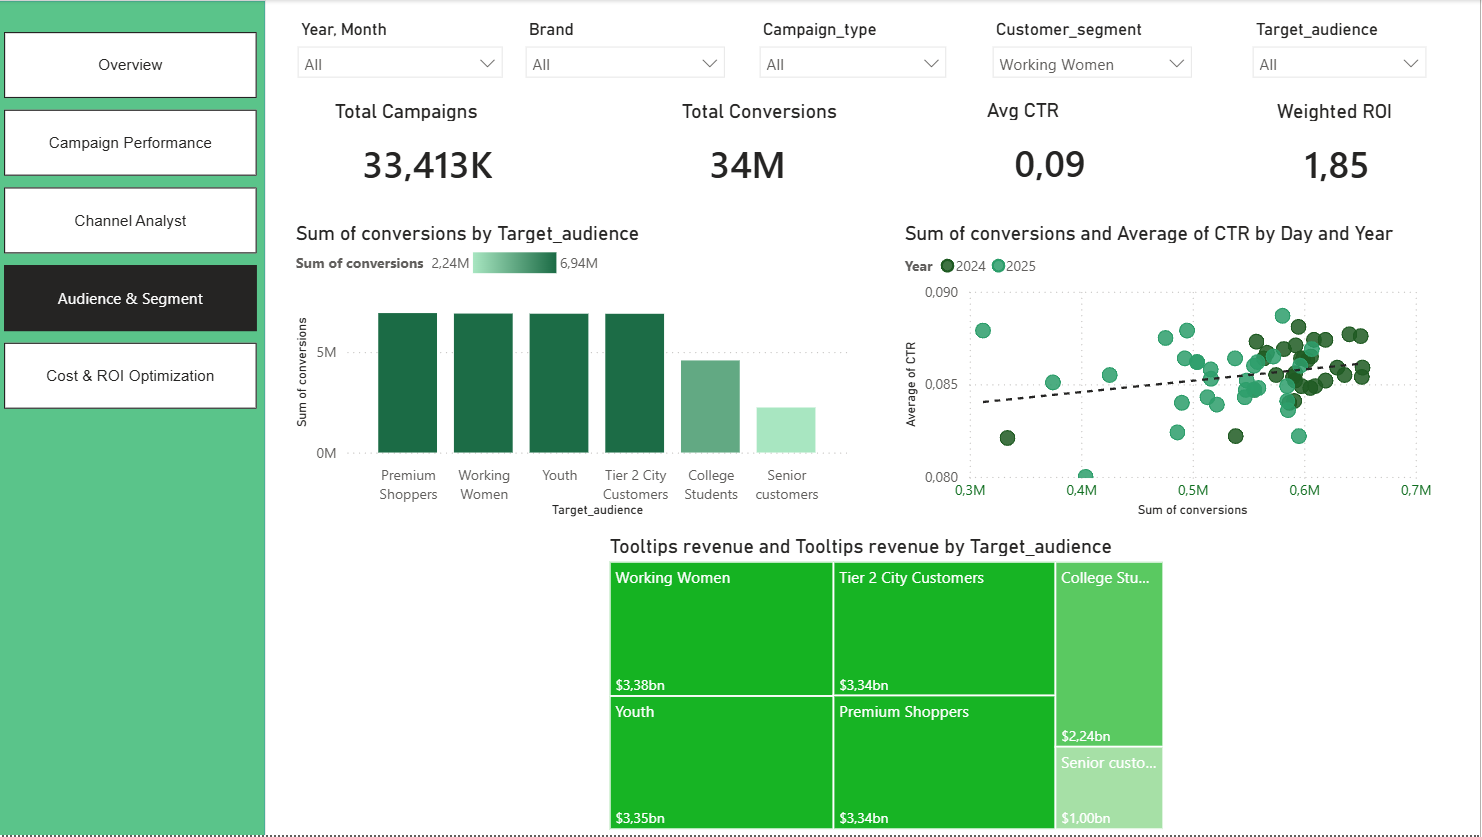

The dashboard page shown, as its layout file describes it:
{"tool":"powerbi","page":{"name":"Audience & Segment","canvas":[1280,720],"ordinal":3},"visuals":[{"type":"cardVisual","title":"Total Conversions","fields":{"Data":["Sum(FactMarketing.conversions)"]},"box":[585.7,85.4,192.3,88.8],"z":0},{"type":"cardVisual","title":"Avg CTR","fields":{"Data":["Avg(FactMarketing.CTR)"]},"box":[848.7,84.5,162.2,88.8],"z":1000},{"type":"cardVisual","title":"Weighted ROI","fields":{"Data":["FactMarketing.Weight_ROI"]},"box":[1098.9,85.4,118.2,88.8],"z":2000},{"type":"cardVisual","title":"Total Campaigns","fields":{"Data":["CountNonNull(FactMarketing.campaign_id)"]},"box":[286.4,85.4,196.7,88.8],"z":3000},{"type":"clusteredColumnChart","fields":{"Category":["DimTargetAudience.target_audience"],"Y":["Sum(FactMarketing.conversions)"]},"box":[252.6,190.8,485.9,259.7],"z":4000},{"type":"scatterChart","fields":{"X":["Sum(FactMarketing.conversions)"],"Y":["Avg(FactMarketing.CTR)"],"Category":["DimDate.campaign_date.Variation.Date Hierarchy.Day"],"Series":["DimDate.campaign_date.Variation.Date Hierarchy.Year"]},"box":[778.2,190.8,464.7,259.7],"z":5000},{"type":"treemap","fields":{"Group":["DimTargetAudience.target_audience"],"Values":["Sum(FactMarketing.revenue)"]},"box":[523.6,460.6,487.3,259.6],"z":6000},{"type":"shape","box":[0,0,232,727.2],"z":7000},{"type":"slicer","fields":{"Values":["DimBrand.brand"]},"box":[446.1,12.4,191.7,72.4],"z":8000},{"type":"slicer","fields":{"Values":["DimCampaignType.campaign_type"]},"box":[647.5,12.4,181.1,72.4],"z":9000},{"type":"slicer","fields":{"Values":["DimCustomerSegment.customer_segment"]},"box":[848.9,12.4,191.7,72.4],"z":10000},{"type":"slicer","fields":{"Values":["DimTargetAudience.target_audience"]},"box":[1073.3,12.4,169.6,72.4],"z":11000},{"type":"slicer","fields":{"Values":["DimDate.campaign_date.Variation.Date Hierarchy.Year","DimDate.campaign_date.Variation.Date Hierarchy.Month"]},"box":[249.3,12.1,196.7,58.7],"z":12000},{"type":"pageNavigator","box":[6,27.6,218.2,325.2],"z":13000}]}

Visuals, with their boxes on the page's 1280x720 design canvas (x1, y1, x2, y2). These are canvas units, not pixel positions in the 1482x837 screenshot, which may show the page scaled, cropped or inside an application window:
"Total Conversions" cardVisual: [586, 85, 778, 174]
"Avg CTR" cardVisual: [849, 84, 1011, 173]
"Weighted ROI" cardVisual: [1099, 85, 1217, 174]
"Total Campaigns" cardVisual: [286, 85, 483, 174]
clusteredColumnChart - DimTargetAudience.target_audience x Sum(FactMarketing.conversions): [253, 191, 738, 450]
scatterChart - Sum(FactMarketing.conversions) x Avg(FactMarketing.CTR): [778, 191, 1243, 450]
treemap - DimTargetAudience.target_audience x Sum(FactMarketing.revenue): [524, 461, 1011, 720]
shape: [0, 0, 232, 727]
slicer - DimBrand.brand: [446, 12, 638, 85]
slicer - DimCampaignType.campaign_type: [648, 12, 829, 85]
slicer - DimCustomerSegment.customer_segment: [849, 12, 1041, 85]
slicer - DimTargetAudience.target_audience: [1073, 12, 1243, 85]
slicer - DimDate.campaign_date.Variation.Date Hierarchy.Year x DimDate.campaign_date.Variation.Date Hierarchy.Month: [249, 12, 446, 71]
pageNavigator: [6, 28, 224, 353]
